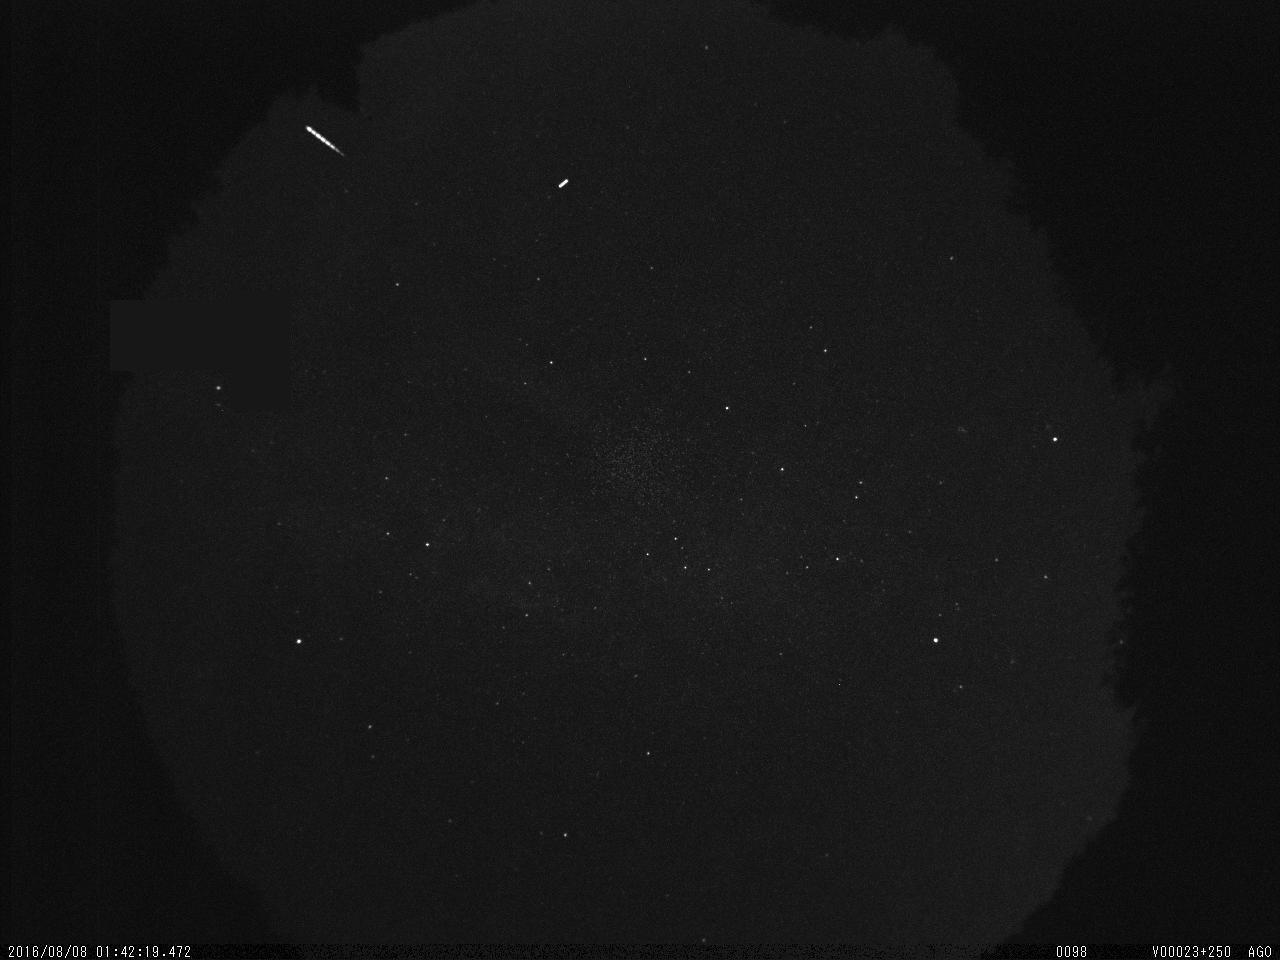meteor: (303, 115, 356, 168)
satelite: (551, 172, 577, 197)
